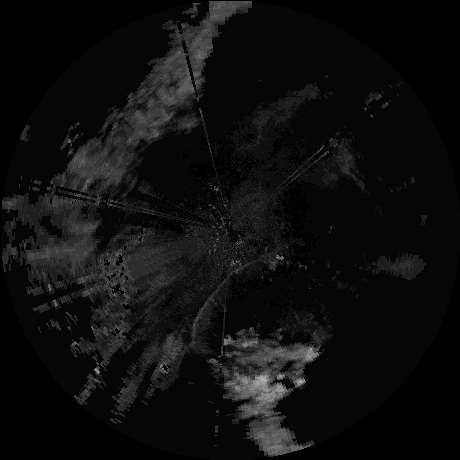frontgust: (191, 257, 260, 339)
